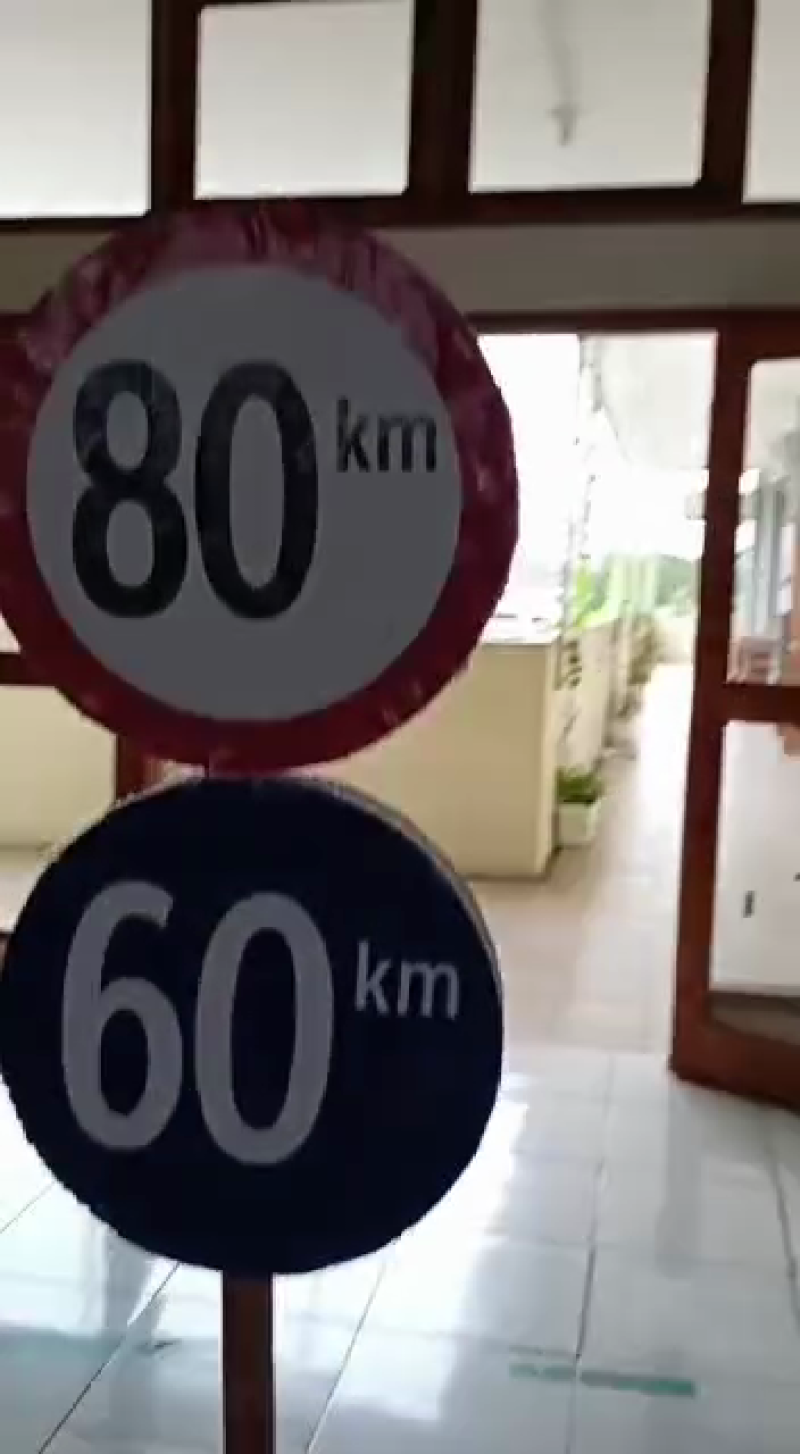batas maksimal 80kmperjam minimal 60kmperjam: (1, 181, 520, 1281)
